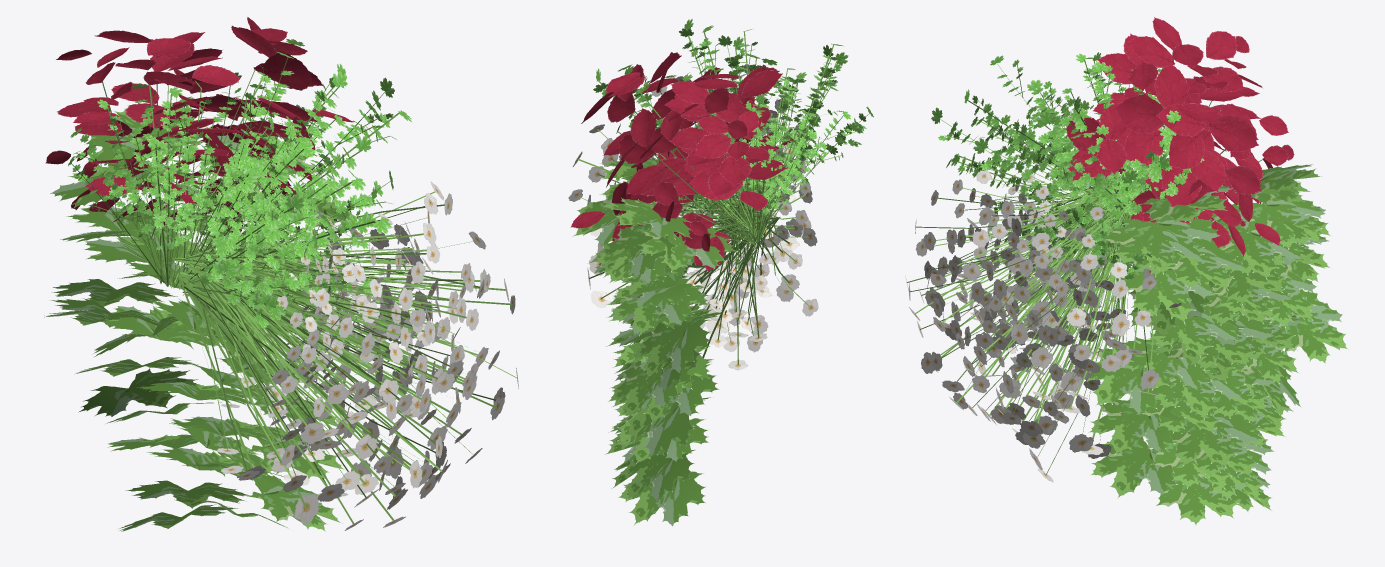
File: bouquet.fbx
The picture shows the model from 3 angles, left to right: view 1: azimuth 30°, elevation 25°; view 2: azimuth 150°, elevation 25°; view 3: azimuth 270°, elevation 25°; orthographic projection. The views are drawn at different scales.
Visible parts, largest first — view 1: bouquet; view 2: bouquet; view 3: bouquet.
Boxes of the visible parts, x1=… form: bouquet: x1=44, y1=17, x2=518, y2=531; bouquet: x1=568, y1=19, x2=873, y2=526; bouquet: x1=905, y1=17, x2=1349, y2=525.
Bounding box in the file's own units: 89.85 × 134 × 122.
1 material, 1 textured.
